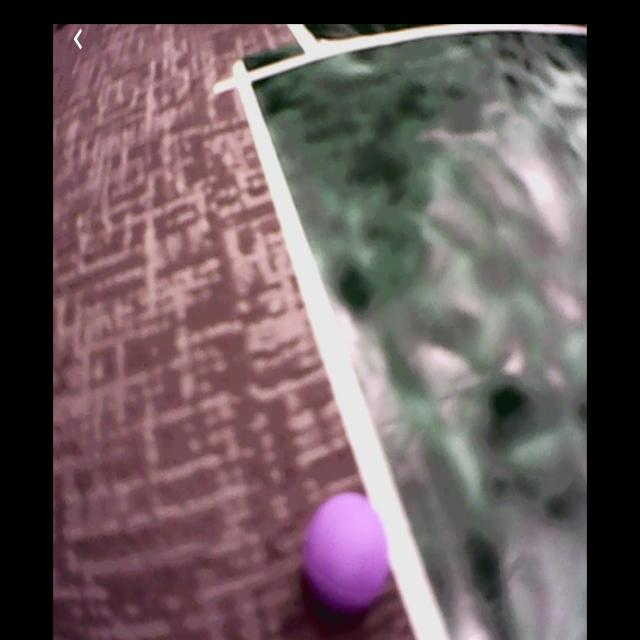ball: (300, 490, 392, 623)
